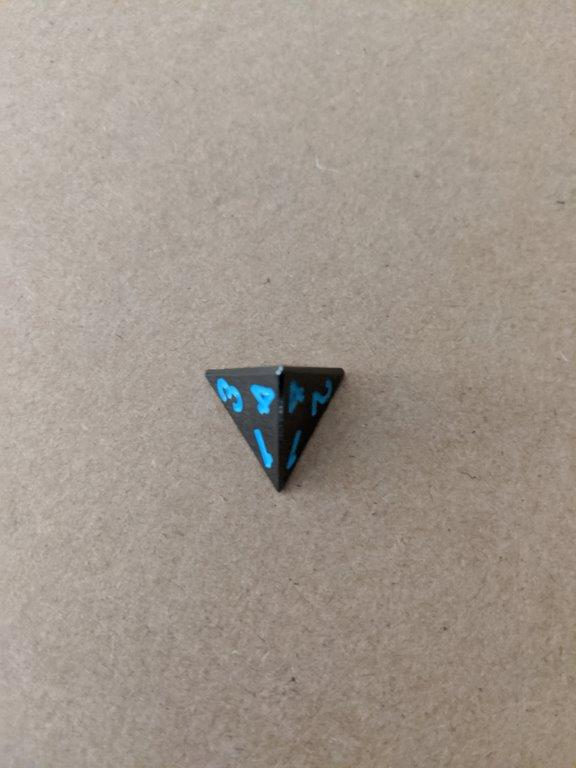d4-4: (204, 362, 349, 495)
